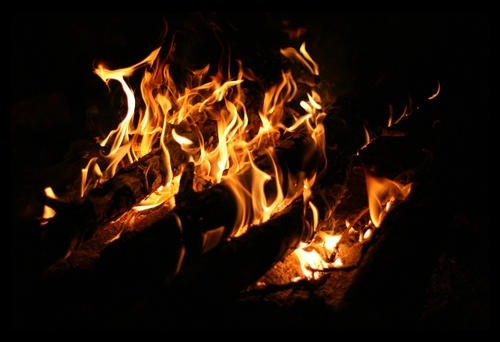fire: (82, 26, 339, 258)
